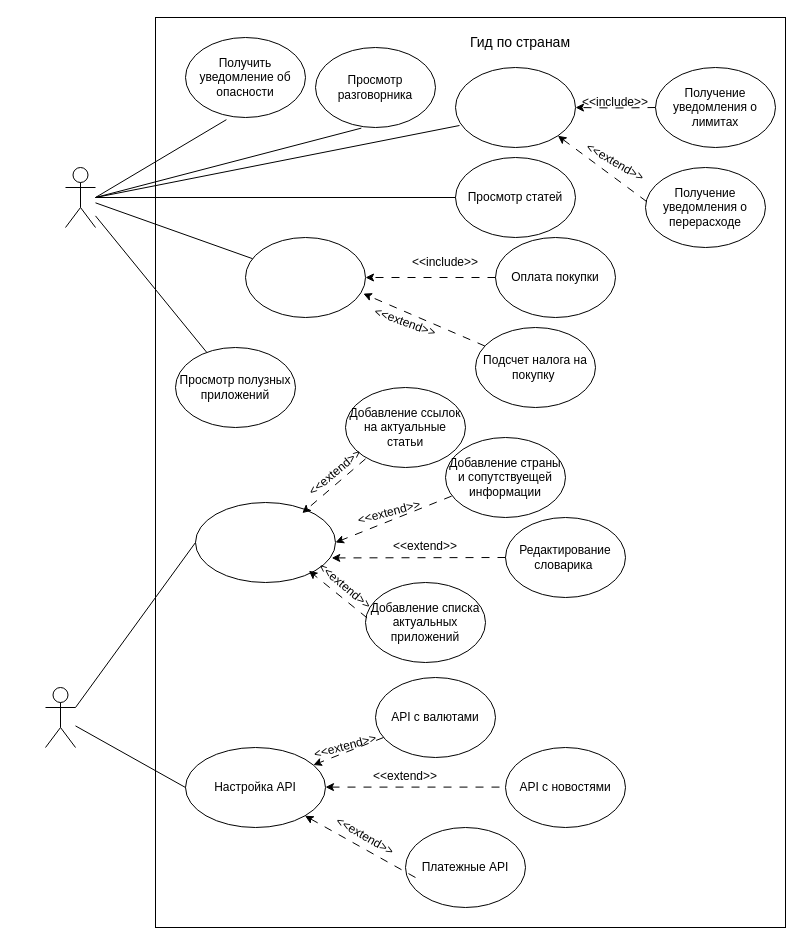
Image size: 803x945. Some labels were removed from this diagram. Here are the shapes that lost their labels. From the top down, the centre of each, then its label:
At pixel 515 107: "Установка ограничений бюджета".
At pixel 80 197: "Пользователь".
At pixel 305 277: "Перевод валют".
At pixel 265 542: "Управление контентом по странам".
At pixel 60 717: "Администратор".
